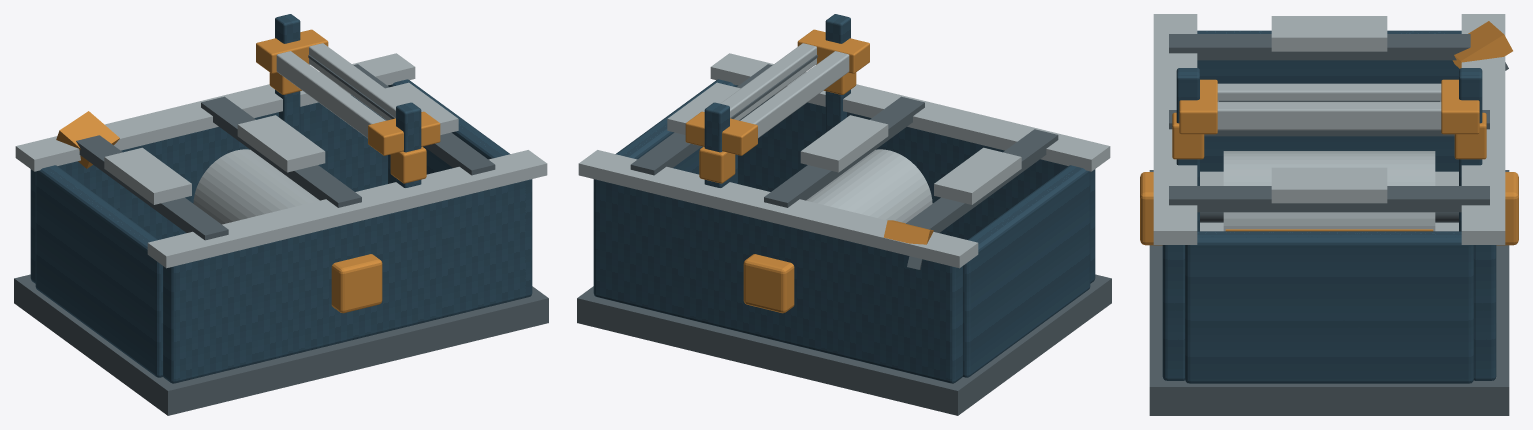
Rendered from galvanizing-lod0.glb.
The picture shows the model from 3 angles, left to right: view 1: azimuth 30°, elevation 25°; view 2: azimuth 150°, elevation 25°; view 3: azimuth 270°, elevation 25°; orthographic projection. The views are drawn at different scales.
Parts seen in each view (by area): view 1: right_bath_wall, entry_bath_wall, support_bed, left_bath_wall, right_rim, left_rim, sink_roll_surface, work_crossbar, inlet_nozzle, work_support, entry_support, entry_crossbar (+11 smaller); view 2: left_bath_wall, entry_bath_wall, support_bed, right_bath_wall, left_rim, right_rim, sink_roll_surface, work_crossbar, inlet_nozzle, work_support, entry_support, left_bearing (+11 smaller); view 3: exit_bath_wall, support_bed, entry_bath_wall, sink_roll_surface, right_rim, outlet_nozzle, exit_crossbar, left_rim, entry_crossbar, exit_support, entry_support, inlet_nozzle (+16 smaller).
Boxes of the visible parts, <box> form: right_bath_wall: <box>163,179,532,383</box>; entry_bath_wall: <box>35,165,163,377</box>; support_bed: <box>14,274,548,415</box>; left_bath_wall: <box>30,95,387,283</box>; right_rim: <box>147,150,547,268</box>; left_rim: <box>15,53,415,171</box>; sink_roll_surface: <box>193,149,319,224</box>; work_crossbar: <box>201,96,361,207</box>; inlet_nozzle: <box>276,51,385,138</box>; work_support: <box>237,115,325,172</box>; entry_support: <box>104,147,191,204</box>; entry_crossbar: <box>76,135,228,240</box>; left_bath_wall: <box>593,179,962,383</box>; entry_bath_wall: <box>962,165,1090,377</box>; support_bed: <box>577,274,1111,415</box>; right_bath_wall: <box>738,95,1095,283</box>; left_rim: <box>578,150,978,268</box>; right_rim: <box>710,53,1110,171</box>; sink_roll_surface: <box>806,149,932,223</box>; work_crossbar: <box>764,96,924,207</box>; inlet_nozzle: <box>740,51,849,138</box>; work_support: <box>800,115,888,172</box>; entry_support: <box>934,147,1021,204</box>; left_bearing: <box>743,254,794,313</box>; exit_bath_wall: <box>1185,231,1473,383</box>; support_bed: <box>1149,170,1509,415</box>; entry_bath_wall: <box>1197,30,1461,171</box>; sink_roll_surface: <box>1223,151,1435,231</box>; right_rim: <box>1153,14,1197,244</box>; outlet_nozzle: <box>1217,102,1441,130</box>; exit_crossbar: <box>1169,186,1489,212</box>; left_rim: <box>1461,14,1505,244</box>; entry_crossbar: <box>1169,34,1470,60</box>; exit_support: <box>1271,167,1387,203</box>; entry_support: <box>1271,16,1387,51</box>; inlet_nozzle: <box>1217,83,1441,101</box>.
Bounding box in the file's own units: 4 × 2.38 × 2.95.
Materials: 7 (1 with a texture image).
